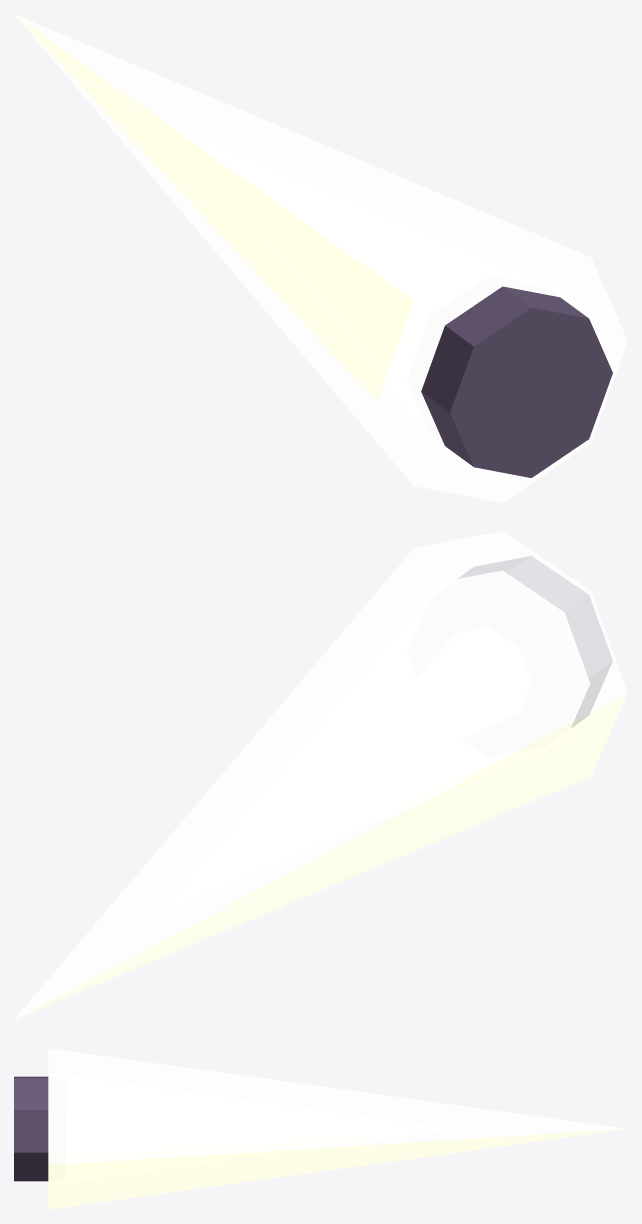
File: boost.glb
3 views of the same model, one above another, from view 1: azimuth 30°, elevation 25°; view 2: azimuth 150°, elevation 25°; view 3: azimuth 270°, elevation 25° (orthographic). The views are drawn at different scales.
Visible parts, largest first — view 1: FlameOuter, FlameMid, Nozzle; view 2: FlameOuter, FlameMid, Nozzle; view 3: FlameOuter, FlameMid, Nozzle.
Part boxes in pixels (box(x1,y1,x2,y2)): FlameOuter: box(14, 14, 627, 502); FlameMid: box(160, 121, 569, 454); Nozzle: box(421, 286, 612, 477); FlameOuter: box(14, 531, 627, 1019); FlameMid: box(160, 571, 589, 912); Nozzle: box(460, 556, 612, 727); FlameOuter: box(48, 1048, 626, 1209); FlameMid: box(49, 1073, 449, 1184); Nozzle: box(14, 1076, 48, 1181).
Bounding box in the file's own units: 0.4 × 0.4 × 1.43.
